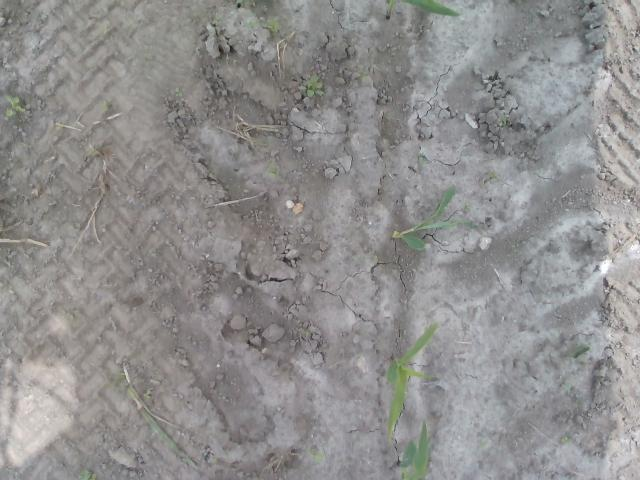Maize: (384, 322, 440, 442), (394, 184, 479, 252), (396, 417, 431, 480), (383, 0, 461, 22)
Weeds: (126, 387, 198, 469), (298, 73, 324, 98), (246, 18, 282, 33), (4, 96, 27, 118), (574, 342, 591, 360), (308, 448, 326, 463), (356, 65, 368, 81), (265, 164, 280, 176), (78, 470, 96, 480), (252, 0, 274, 8), (100, 99, 111, 114), (415, 150, 426, 162), (560, 433, 571, 444), (497, 118, 509, 128), (144, 390, 154, 400), (87, 146, 97, 156), (54, 119, 64, 129), (116, 370, 125, 380), (175, 87, 184, 96), (563, 384, 572, 392)
